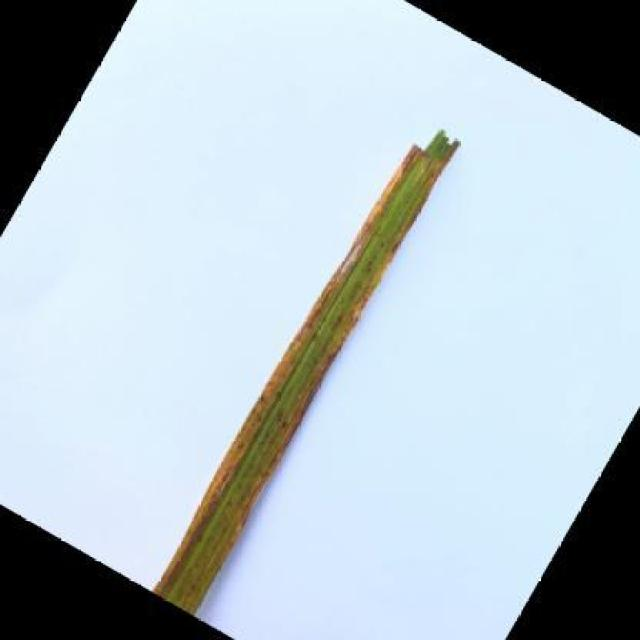Rice False Smut: (135, 91, 482, 620)
